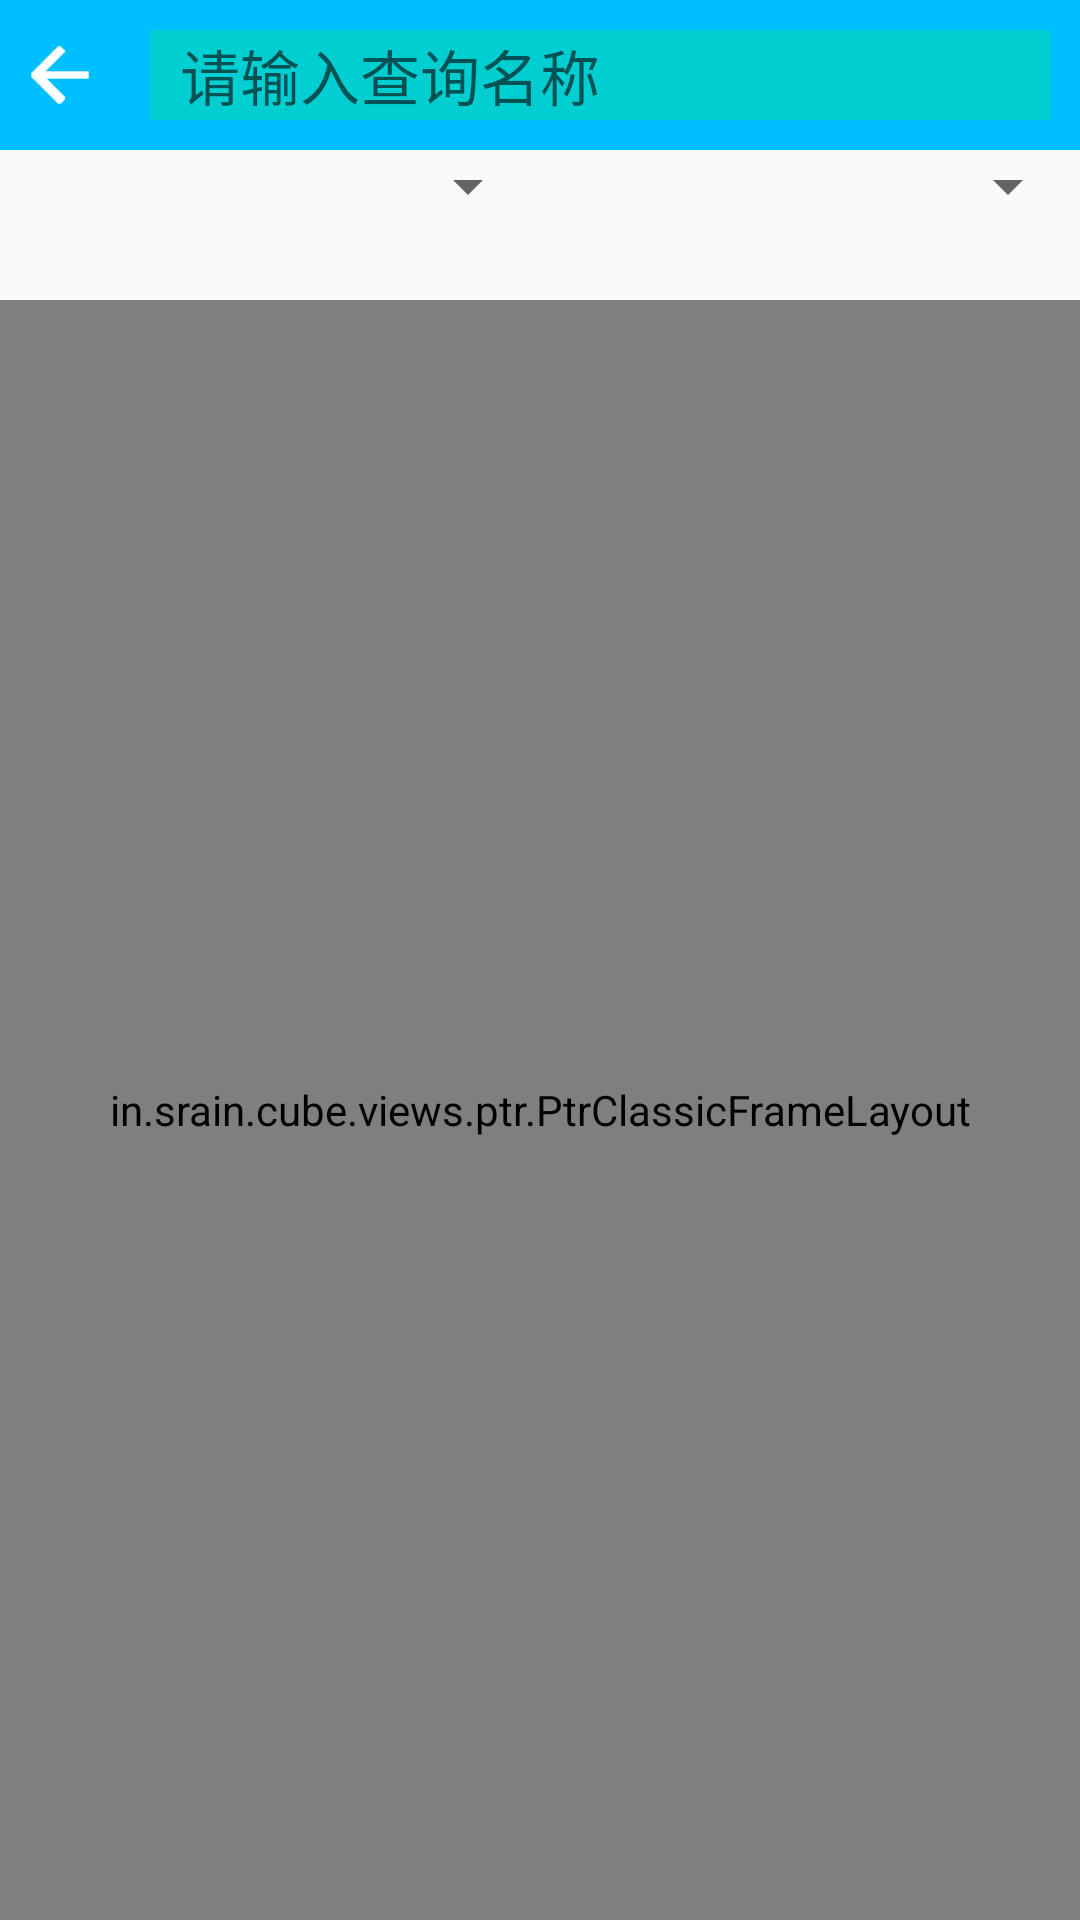

Icons on this 1080px x 1920px Android screen, each with its box as (x1, y1, x2, y2):
rbak: (31, 46, 89, 104)
